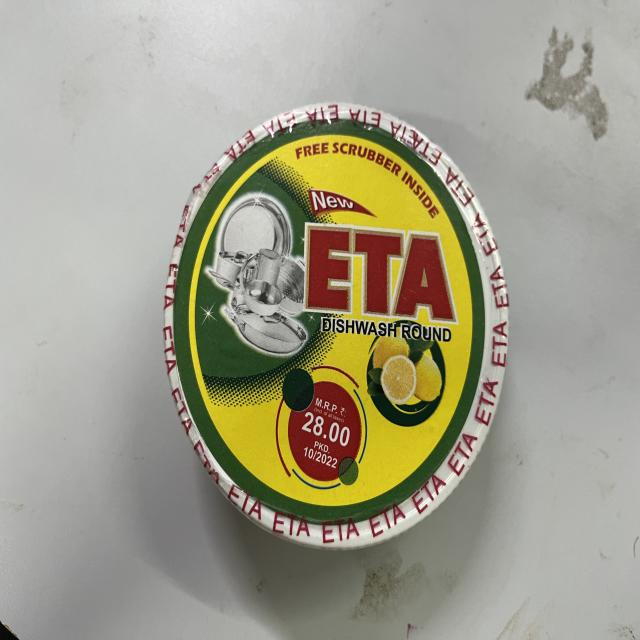L2: (151, 67, 511, 558)
